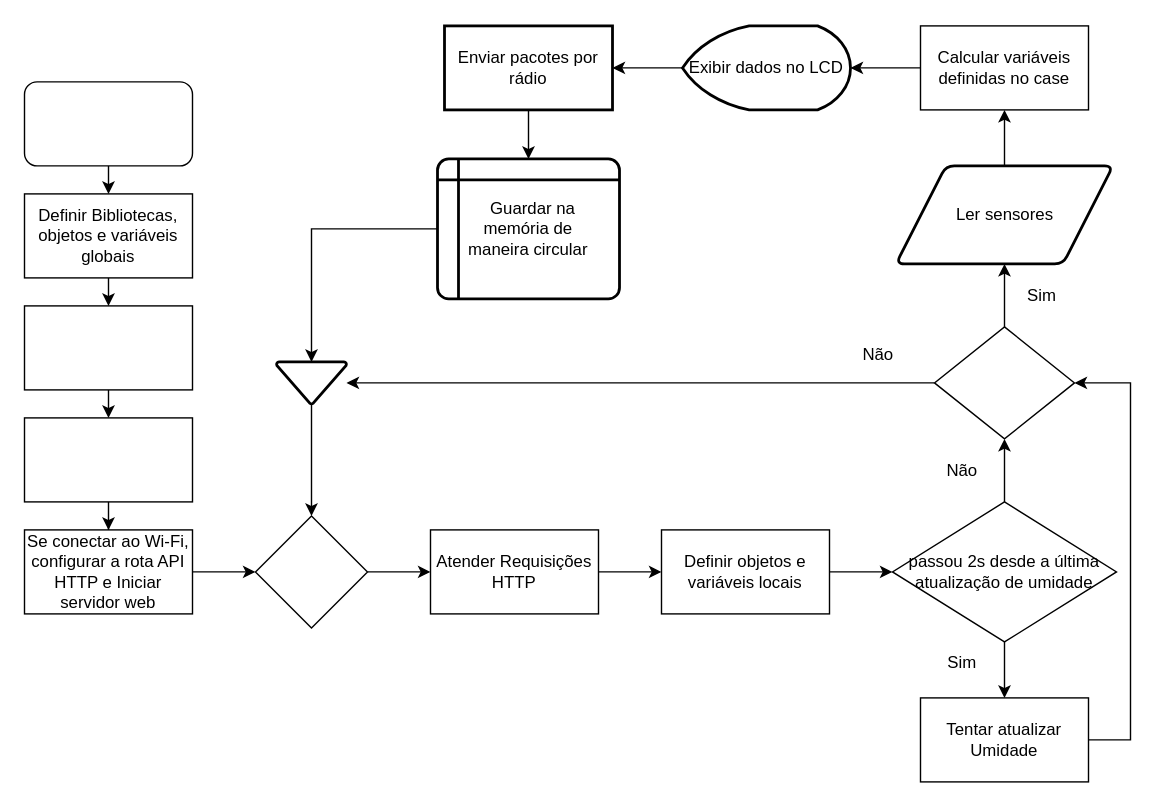
Image size: 1166x806. Some labels were removed from this diagram. The shapes that lost their labels are listed below. From the top down, each one's box as (x1, y1, x2, y2) in pixels, then its label:
(23, 80, 192, 166): Início
(23, 304, 192, 390): Iniciar pinos I2C utilizados
(933, 326, 1074, 439): passou 1s do último envio
(23, 416, 192, 502): Iniciar BMP-180, DHT11, RTC, LCD, LittleFS e Lo-Ra
(254, 514, 368, 628): While True
